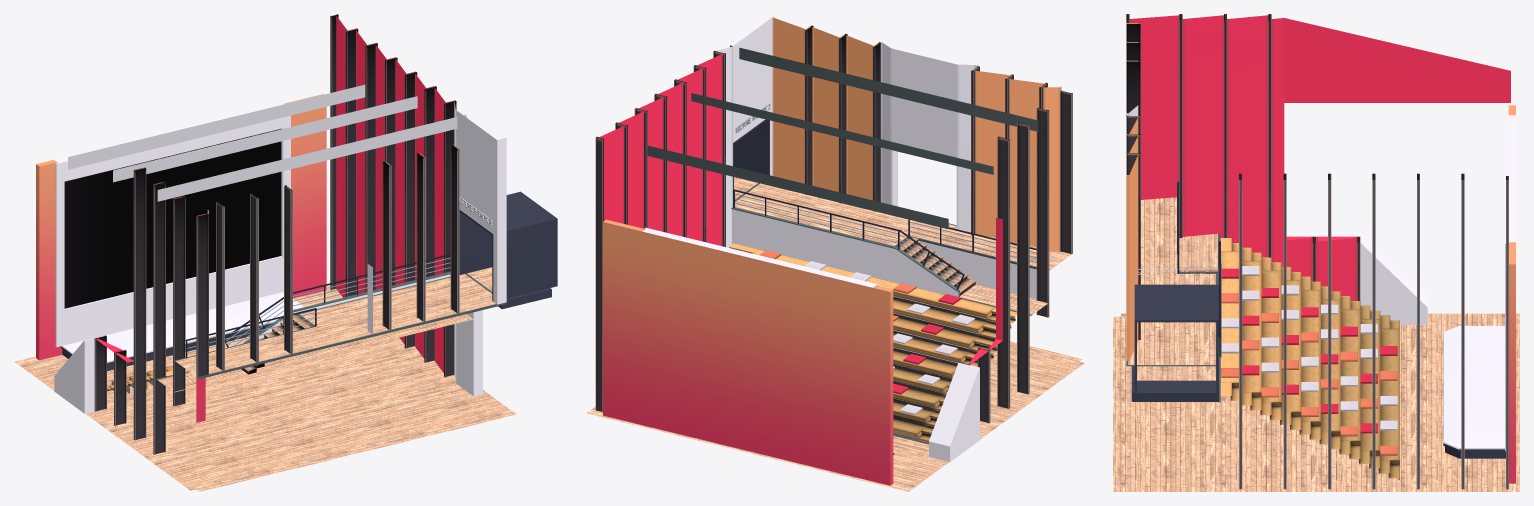
Rendered from TeachingCommunityInteriorLectureTheatre01.glb.
3 renders of one model, left to right at view 1: azimuth 30°, elevation 25°; view 2: azimuth 150°, elevation 25°; view 3: azimuth 270°, elevation 25°, orthographic. The views are drawn at different scales.
Visible parts, largest first — view 1: TCV_LectureTheatreStage, TCV_LectureTheatreFloor, TCV_LectureTheatreWallLeft, TCV_LectureTheatreWallRight, TCV_LectureTheatreStairs1, TCV_LectureTheatreRoof01, TCV_LectureTheatreWallBack, TCV_LectureTheatreConnector, TCV_LectureTheatreStairRailings; view 2: TCV_LectureTheatreStage, TCV_LectureTheatreWallBack, TCV_LectureTheatreWallLeft, TCV_LectureTheatreStairs1, TCV_LectureTheatreWallRight, TCV_LectureTheatreSeatsBase, TCV_LectureTheatreRoof01, TCV_LectureTheatreFloor, TCV_LectureTheatreStairRailings, TCV_LectureTheatreConnector; view 3: TCV_LectureTheatreWallRight, TCV_LectureTheatreFloor, TCV_LectureTheatreSeatsBase, TCV_LectureTheatreStage, TCV_LectureTheatreStairs1, TCV_LectureTheatreWallLeft, TCV_LectureTheatreConnector, TCV_LectureTheatreWallBack, TCV_LectureTheatreStairRailings.
Part boxes in pixels (x1=…): TCV_LectureTheatreStage: x1=36, y1=94, x2=326, y2=371; TCV_LectureTheatreFloor: x1=14, y1=285, x2=516, y2=491; TCV_LectureTheatreWallLeft: x1=330, y1=14, x2=506, y2=396; TCV_LectureTheatreWallRight: x1=54, y1=167, x2=208, y2=454; TCV_LectureTheatreStairs1: x1=156, y1=267, x2=506, y2=392; TCV_LectureTheatreRoof01: x1=68, y1=84, x2=466, y2=201; TCV_LectureTheatreWallBack: x1=207, y1=144, x2=459, y2=371; TCV_LectureTheatreConnector: x1=459, y1=191, x2=557, y2=309; TCV_LectureTheatreStairRailings: x1=185, y1=254, x2=450, y2=358; TCV_LectureTheatreStage: x1=603, y1=219, x2=894, y2=485; TCV_LectureTheatreWallBack: x1=772, y1=17, x2=1061, y2=251; TCV_LectureTheatreWallLeft: x1=595, y1=16, x2=773, y2=412; TCV_LectureTheatreStairs1: x1=731, y1=177, x2=1070, y2=315; TCV_LectureTheatreWallRight: x1=929, y1=90, x2=1072, y2=461; TCV_LectureTheatreSeatsBase: x1=729, y1=243, x2=1016, y2=444; TCV_LectureTheatreRoof01: x1=647, y1=45, x2=1038, y2=229; TCV_LectureTheatreFloor: x1=586, y1=341, x2=1084, y2=491; TCV_LectureTheatreStairRailings: x1=733, y1=189, x2=1036, y2=289; TCV_LectureTheatreConnector: x1=733, y1=119, x2=769, y2=206; TCV_LectureTheatreWallRight: x1=1126, y1=14, x2=1510, y2=324; TCV_LectureTheatreFloor: x1=1113, y1=313, x2=1519, y2=491; TCV_LectureTheatreSeatsBase: x1=1220, y1=238, x2=1399, y2=479; TCV_LectureTheatreStage: x1=1443, y1=105, x2=1515, y2=483; TCV_LectureTheatreStairs1: x1=1126, y1=197, x2=1221, y2=402; TCV_LectureTheatreWallLeft: x1=1239, y1=173, x2=1508, y2=489; TCV_LectureTheatreConnector: x1=1131, y1=284, x2=1218, y2=401; TCV_LectureTheatreWallBack: x1=1126, y1=23, x2=1140, y2=360; TCV_LectureTheatreStairRailings: x1=1177, y1=181, x2=1220, y2=356.
Size of what is drawn, in the model's own units: 24.89 by 17.51 by 20.74.
5 materials, 5 textured.
